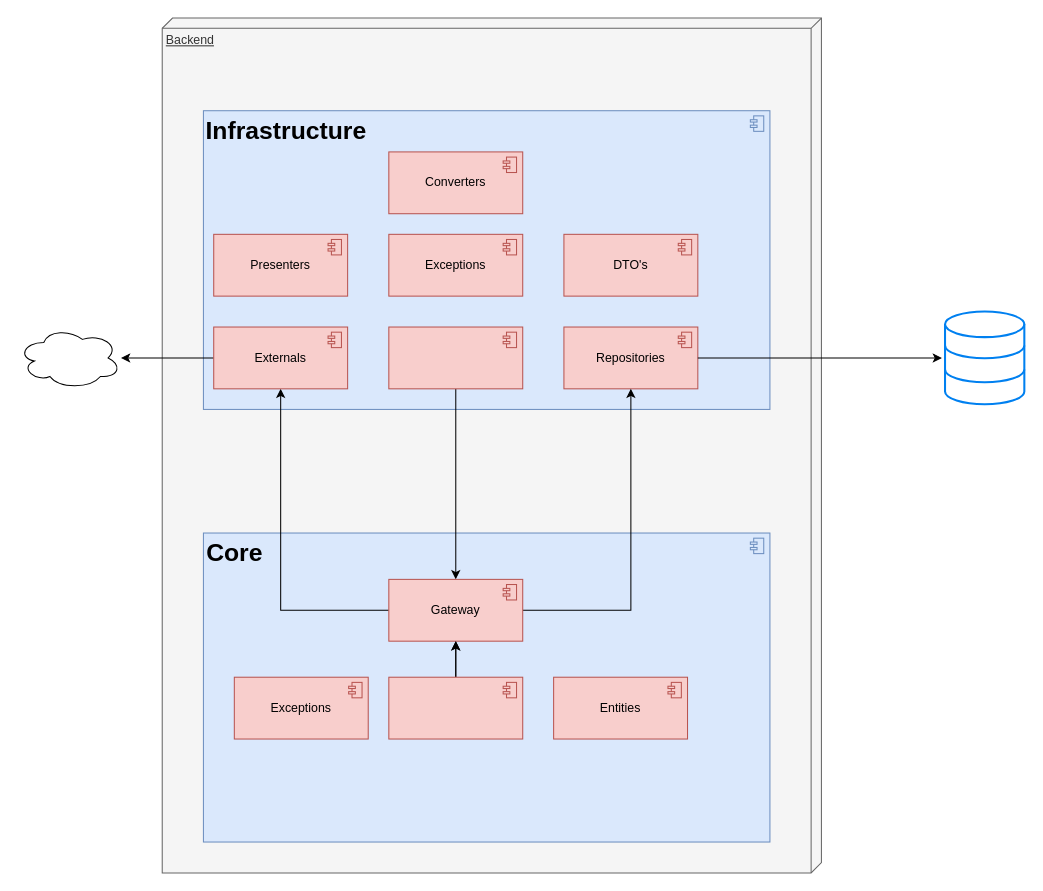
The diagram is 1043 pixels wide and 891 high, and some of its shapes have lost their labels. Each missing label, with the box of its shape:
Cloud: (17, 326, 121, 389)
Controllers: (388, 326, 523, 389)
DATABASE: (943, 310, 1025, 405)
Use Case: (388, 676, 523, 739)
